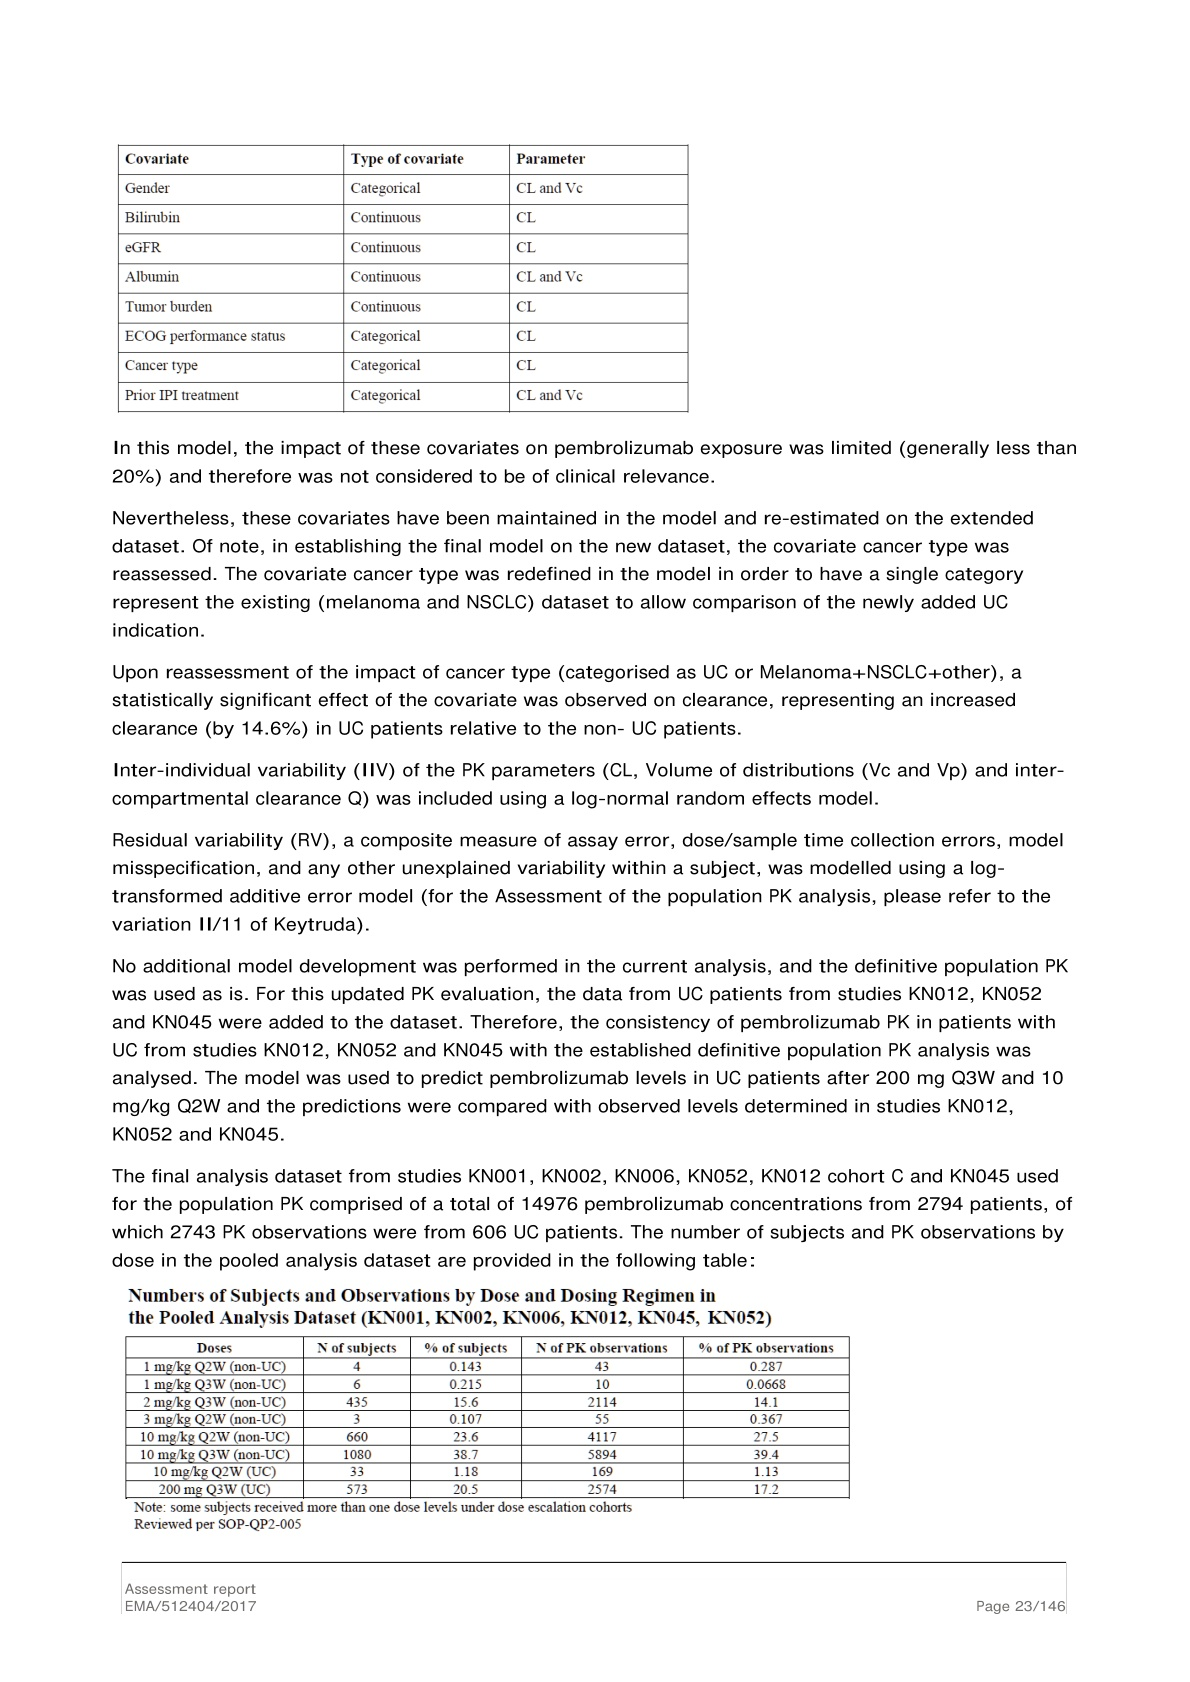full_lined: (117, 143, 689, 412), (125, 1336, 850, 1499)
